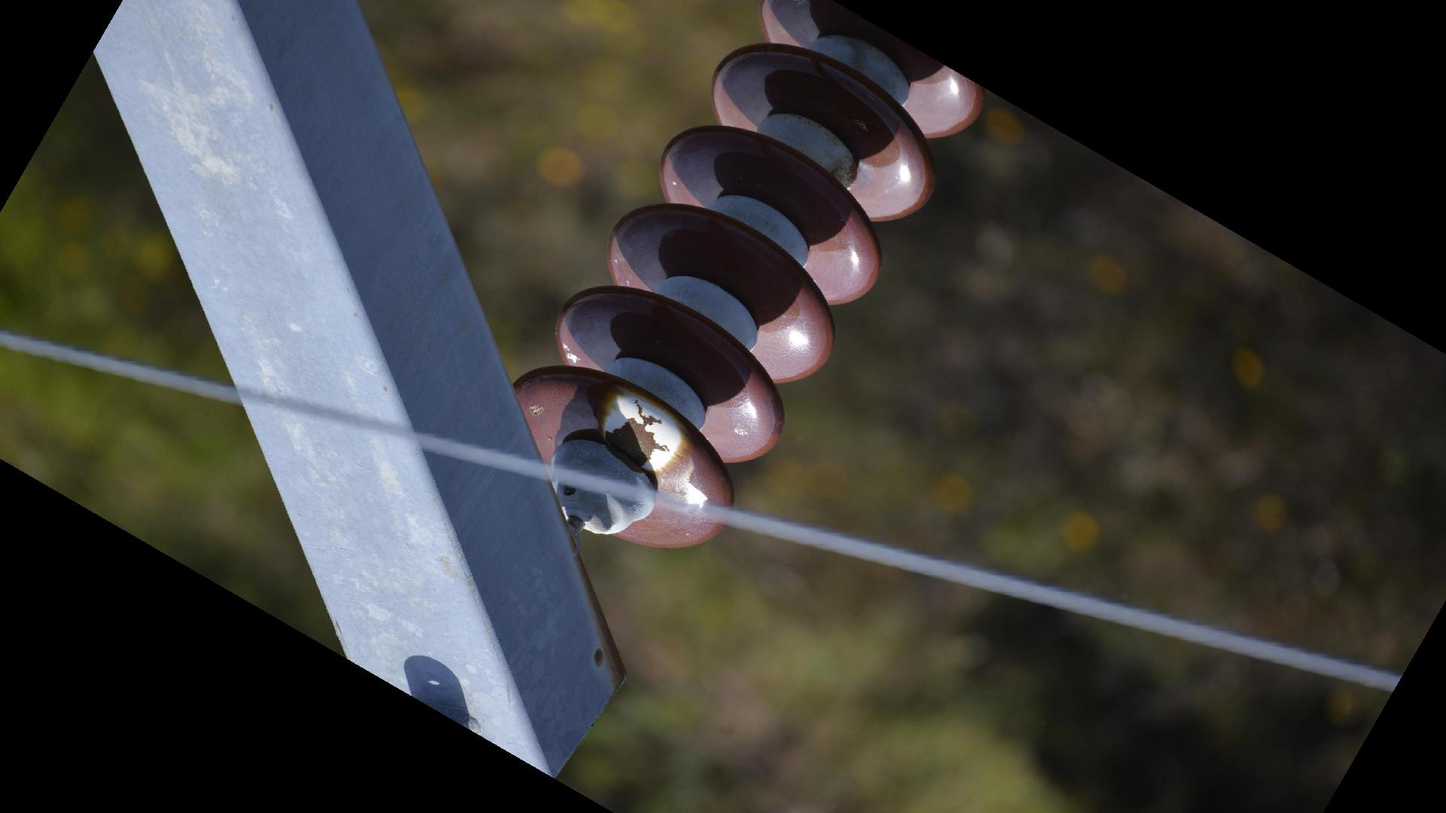insulator: (501, 1, 995, 555)
insulator_flashover: (598, 388, 688, 474)
